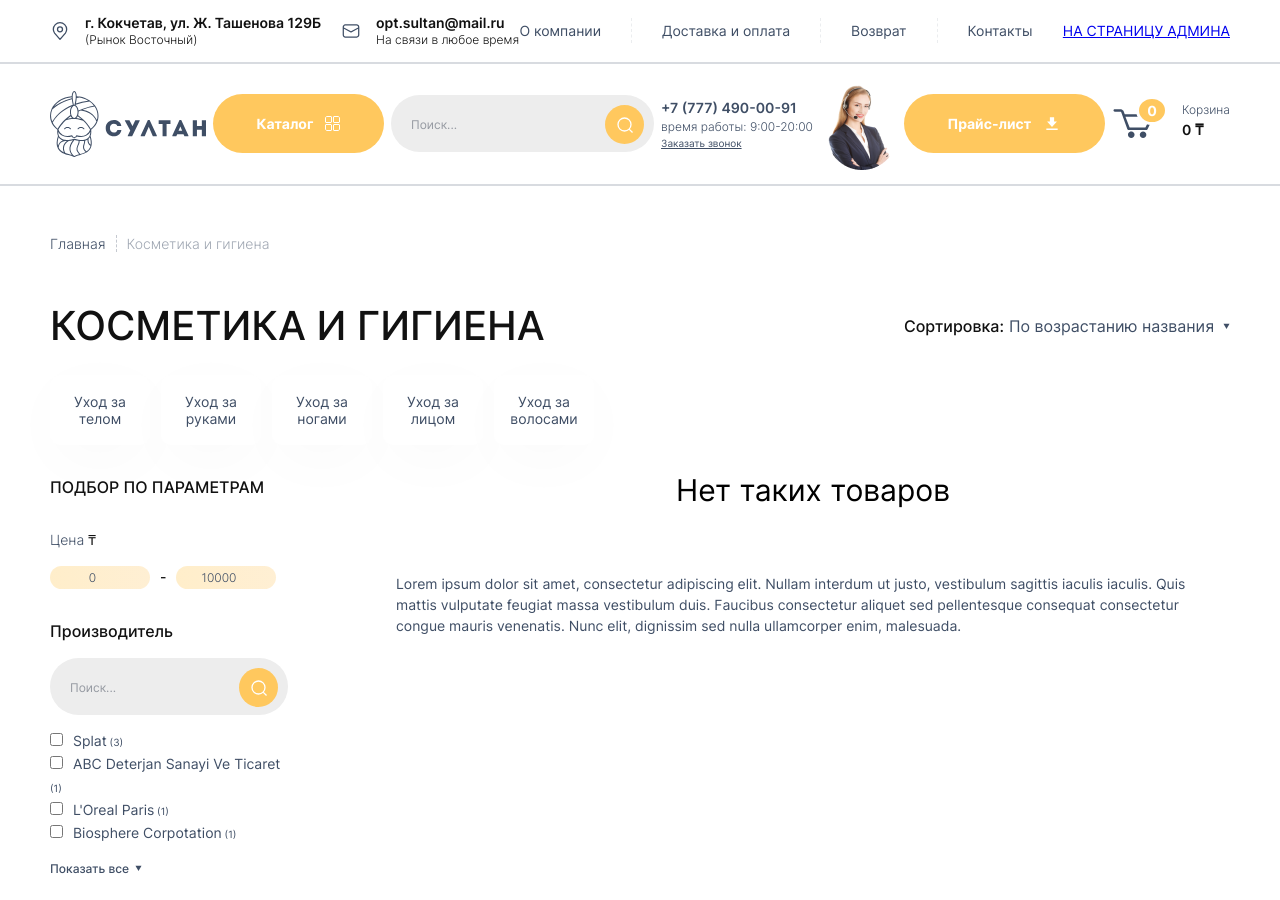
Test: tests › Click on the cart icon in header opens cart page
The width and height of the screenshot is (1280, 900).
Step 1. Click the element with test id "cart-icon-container" → (1135, 124), box [1112, 101, 1230, 147]
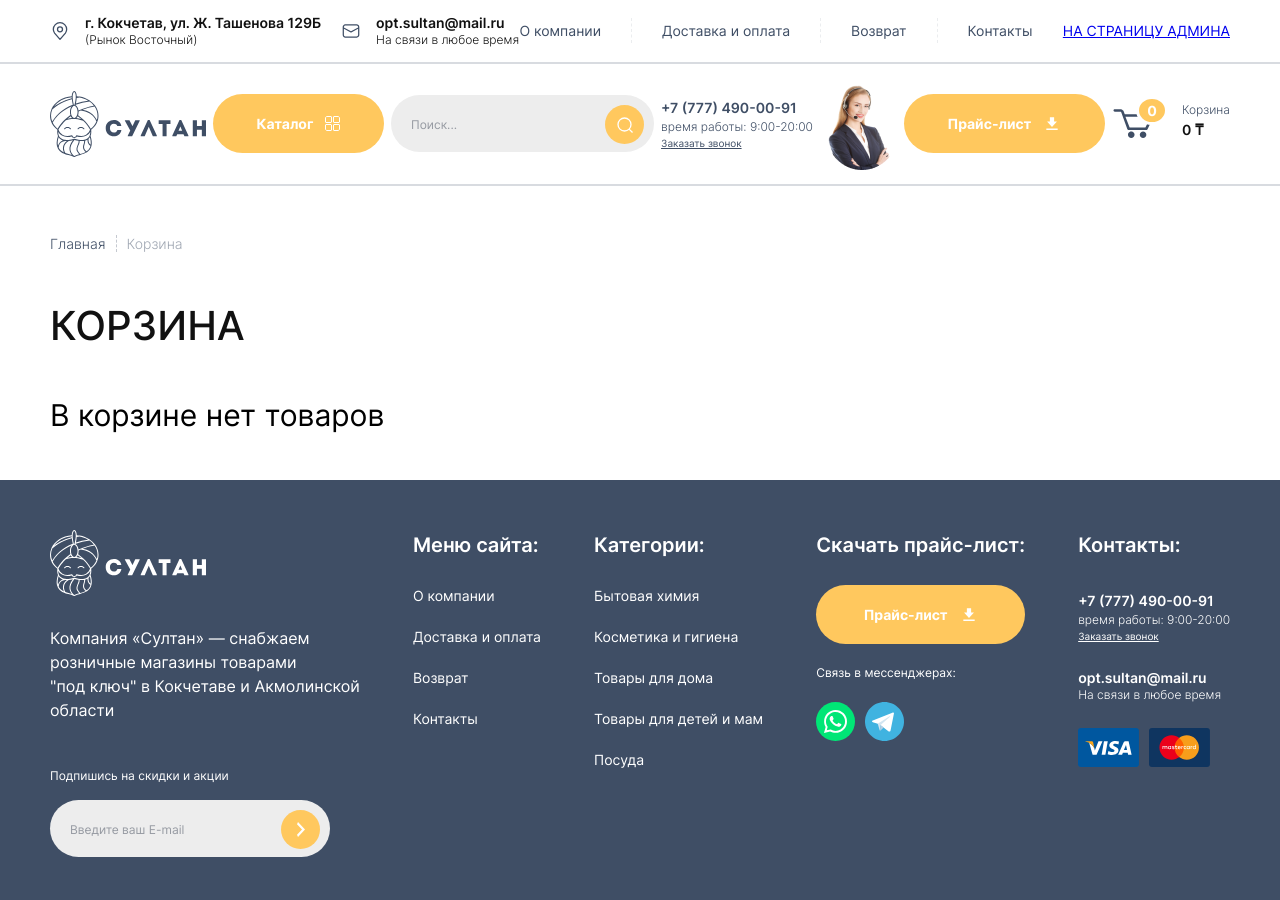
Now the element with test id "cart-page-main" is shown, box [50, 235, 384, 433]
